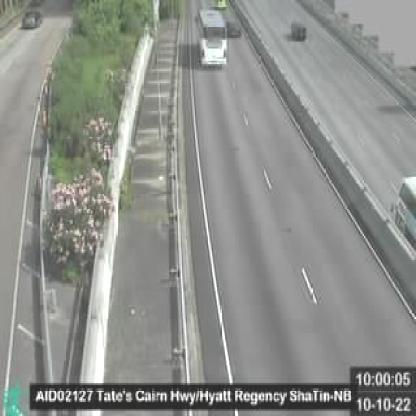Car: (22, 9, 40, 28), (292, 20, 306, 40), (227, 21, 241, 37)
Truck: (198, 4, 224, 68)
